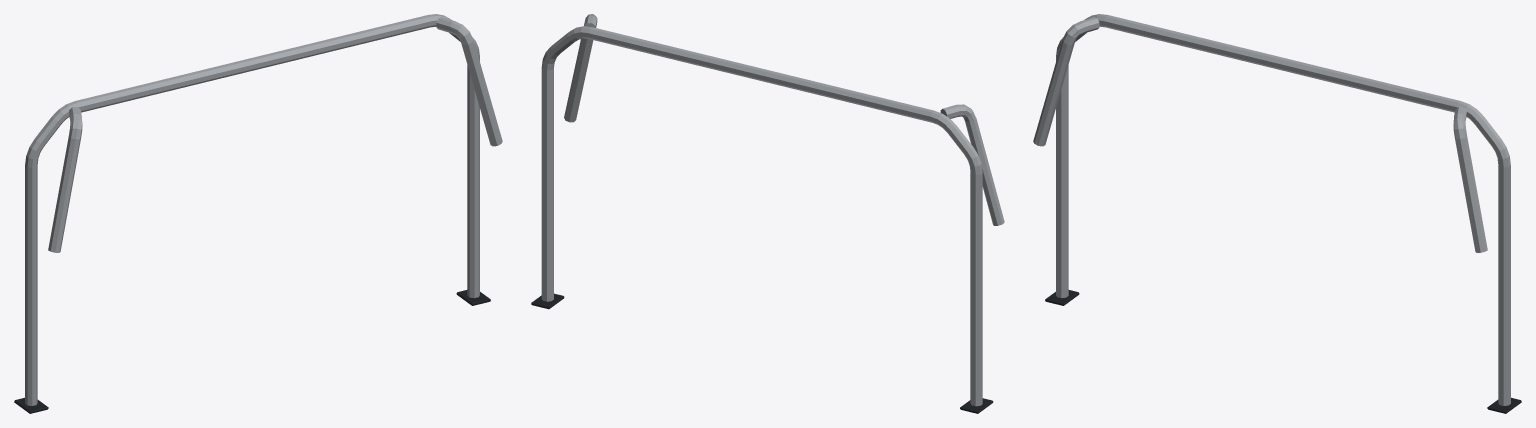
File: brute_500.glb
3 renders of one model, left to right at view 1: azimuth 30°, elevation 25°; view 2: azimuth 150°, elevation 25°; view 3: azimuth 330°, elevation 25°, orthographic. The views are drawn at different scales.
Parts seen in each view (by area): view 1: model; view 2: model; view 3: model.
Part boxes in pixels (<box>): model: <box>14,14,502,413</box>; model: <box>531,14,1004,413</box>; model: <box>1033,14,1521,413</box>.
Size of the model in its own units: 1.67 by 1.02 by 0.2124.
2 materials, 1 textured.
